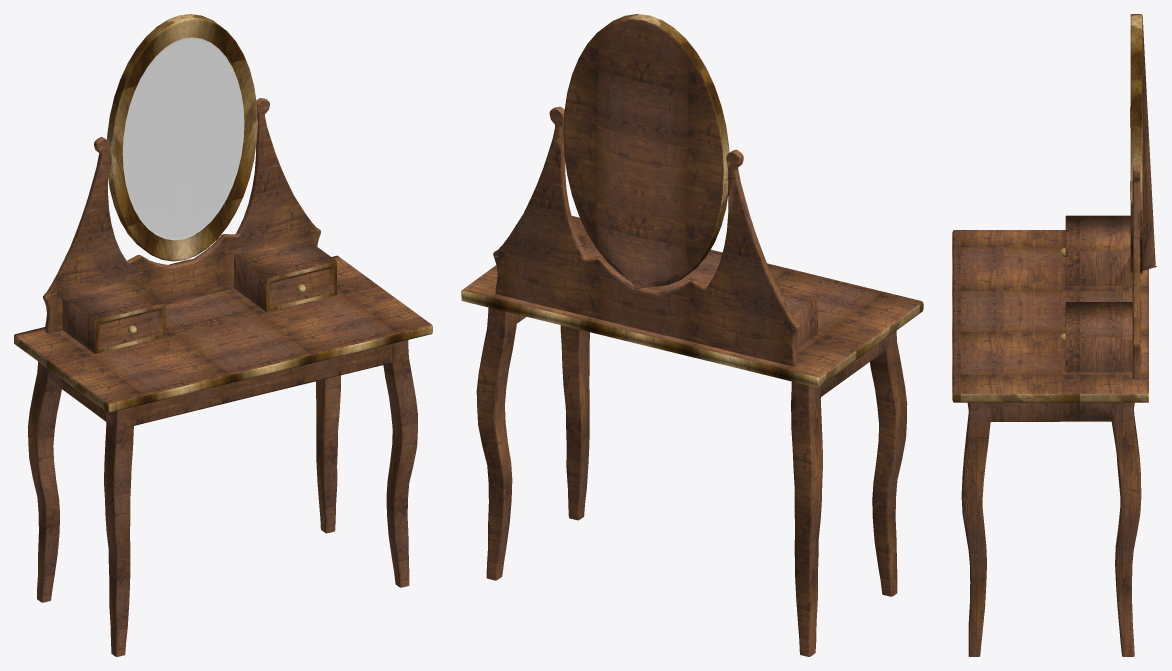
The picture shows the model from 3 angles, left to right: view 1: azimuth 30°, elevation 25°; view 2: azimuth 150°, elevation 25°; view 3: azimuth 270°, elevation 25°; orthographic projection. The views are drawn at different scales.
Parts seen in each view (by area): view 1: Hemnes Dressing Table; view 2: Hemnes Dressing Table; view 3: Hemnes Dressing Table.
Boxes of the visible parts, bbox=[...] form: Hemnes Dressing Table: bbox=[14, 14, 432, 656]; Hemnes Dressing Table: bbox=[461, 14, 923, 656]; Hemnes Dressing Table: bbox=[952, 14, 1156, 656].
Bounding box in the file's own units: 1.08 × 1.74 × 0.5725.
3 materials, 2 textured.
